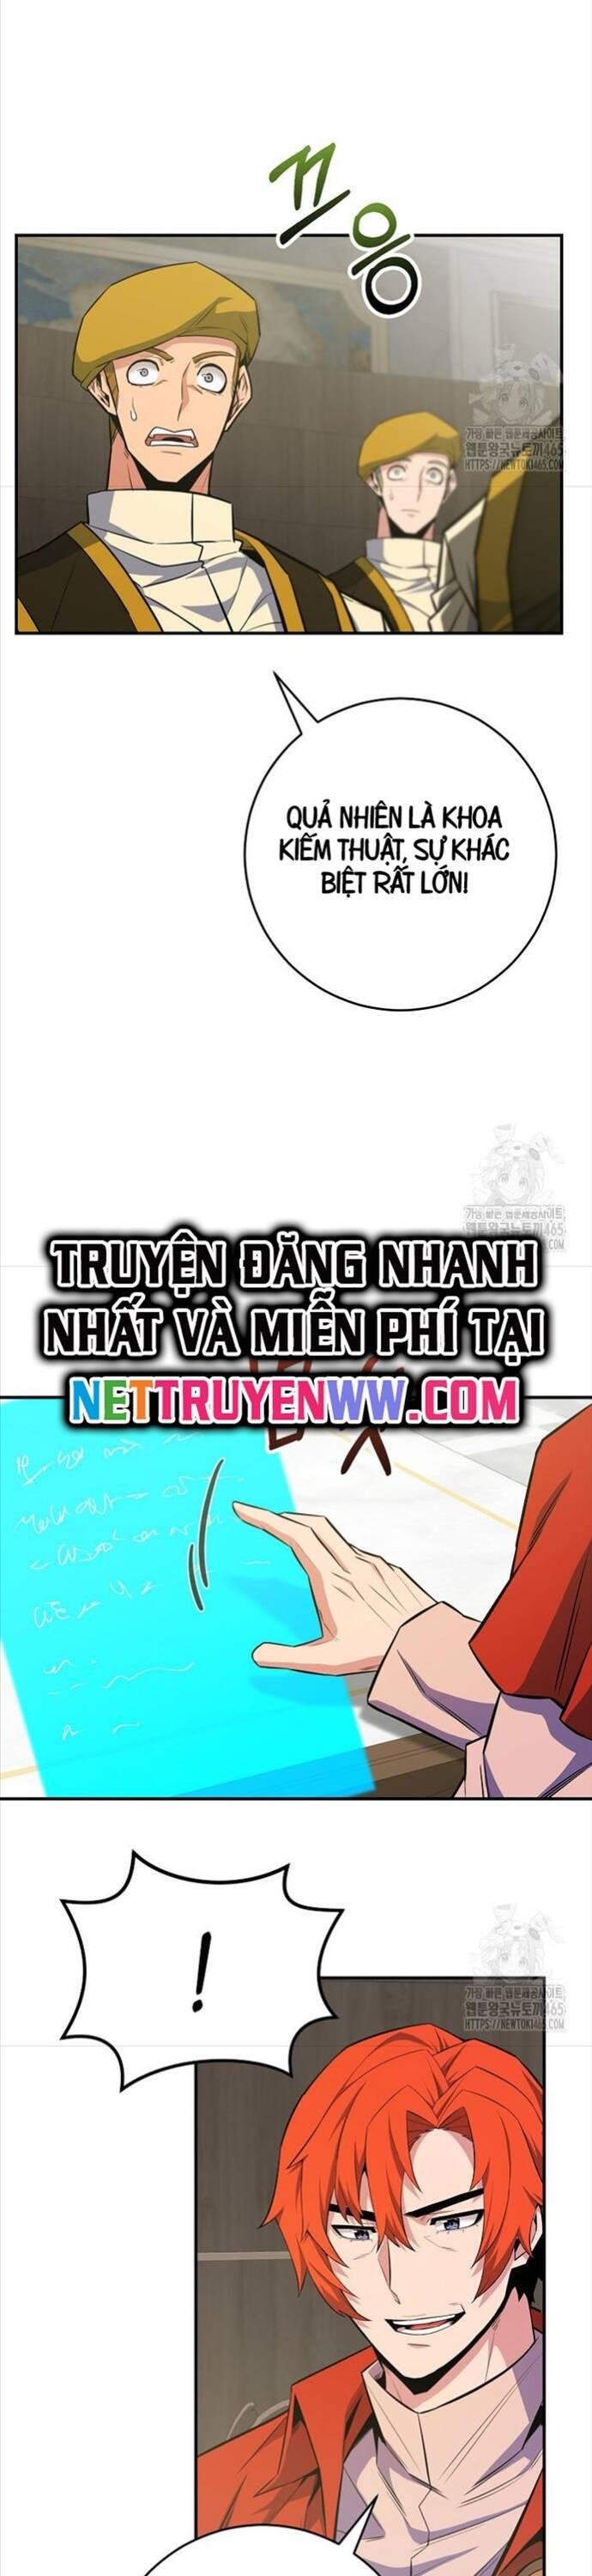quangcao: (30, 1211, 553, 1434)
